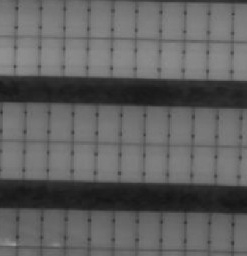solar: (12, 33, 42, 77), (36, 34, 66, 78), (60, 34, 90, 78), (85, 34, 115, 78), (109, 35, 139, 79), (133, 36, 163, 80), (156, 36, 186, 80), (180, 37, 210, 81), (46, 101, 76, 145), (71, 101, 101, 145), (94, 101, 124, 145), (117, 104, 147, 148), (142, 106, 172, 150), (167, 105, 197, 149), (192, 105, 222, 149), (214, 106, 244, 150), (45, 138, 75, 182), (68, 140, 98, 184), (94, 140, 124, 184), (119, 141, 149, 185), (141, 141, 171, 185), (165, 142, 195, 186), (189, 143, 219, 187), (214, 143, 244, 187), (14, 205, 44, 249), (39, 205, 69, 249), (66, 205, 96, 249), (87, 205, 117, 249), (110, 208, 140, 252), (135, 208, 165, 252), (158, 208, 188, 252), (184, 209, 214, 253), (207, 209, 237, 253), (22, 100, 51, 144), (22, 139, 51, 183), (204, 38, 234, 80), (1, 99, 29, 143), (1, 139, 29, 183), (205, 1, 235, 42), (182, 1, 212, 42), (157, 1, 187, 42), (133, 1, 163, 42), (110, 1, 140, 42), (85, 1, 115, 42), (61, 1, 91, 42), (38, 1, 68, 42)
